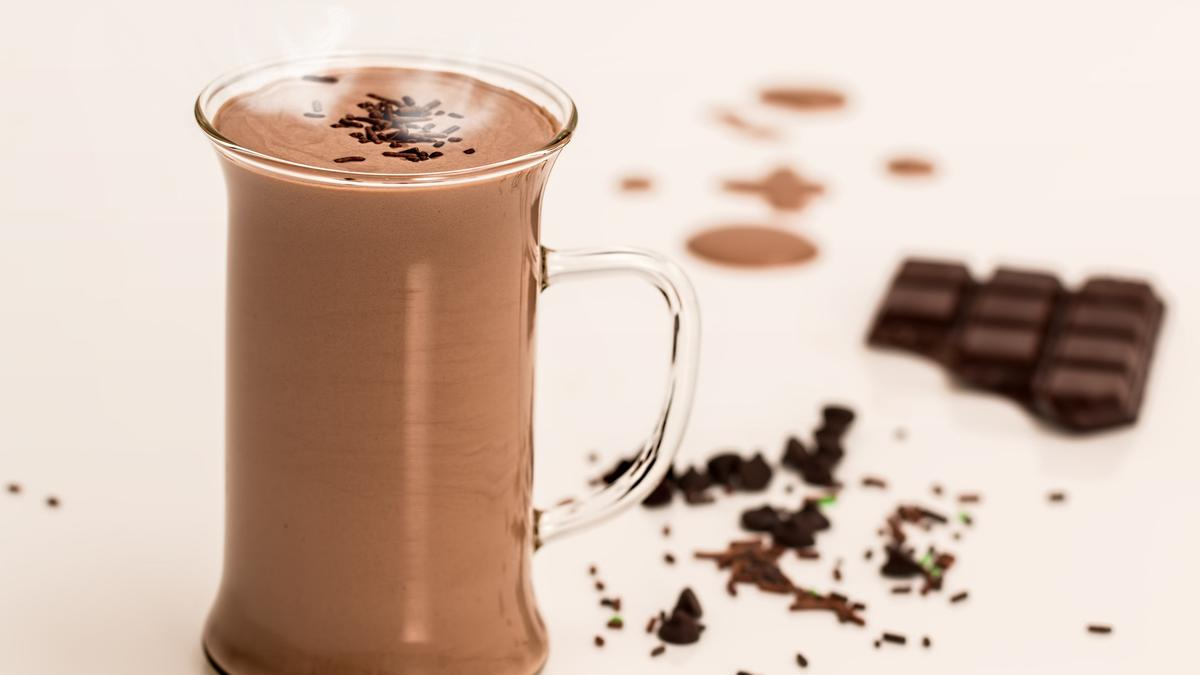produk_susu: (235, 65, 514, 657)
